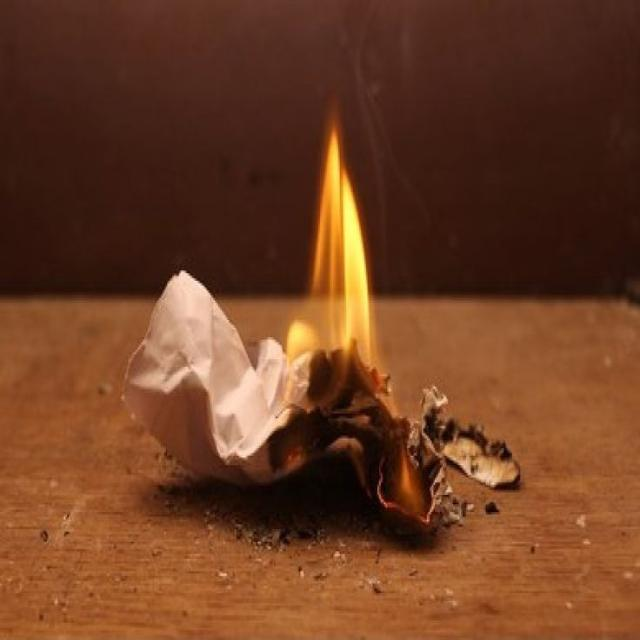fire: (288, 126, 371, 370)
